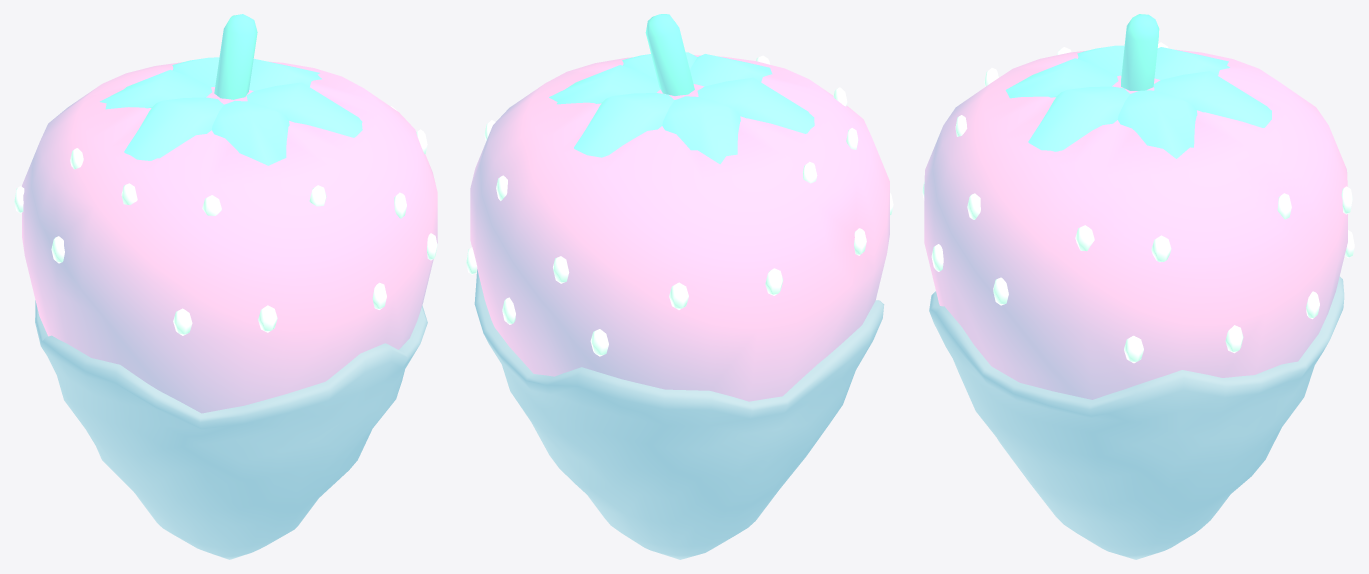
Rendered from props__CandyStrawberry.glb.
3 renders of one model, left to right at view 1: azimuth 30°, elevation 25°; view 2: azimuth 150°, elevation 25°; view 3: azimuth 270°, elevation 25°, orthographic. The views are drawn at different scales.
Parts seen in each view (by area): view 1: CandyStrawberry; view 2: CandyStrawberry; view 3: CandyStrawberry.
Boxes of the visible parts, left/top/right/bottom form: CandyStrawberry: left=14, top=14, right=437, bottom=559; CandyStrawberry: left=466, top=14, right=893, bottom=559; CandyStrawberry: left=922, top=14, right=1354, bottom=559.
Bounding box in the file's own units: 6.42 × 8.96 × 6.37.
